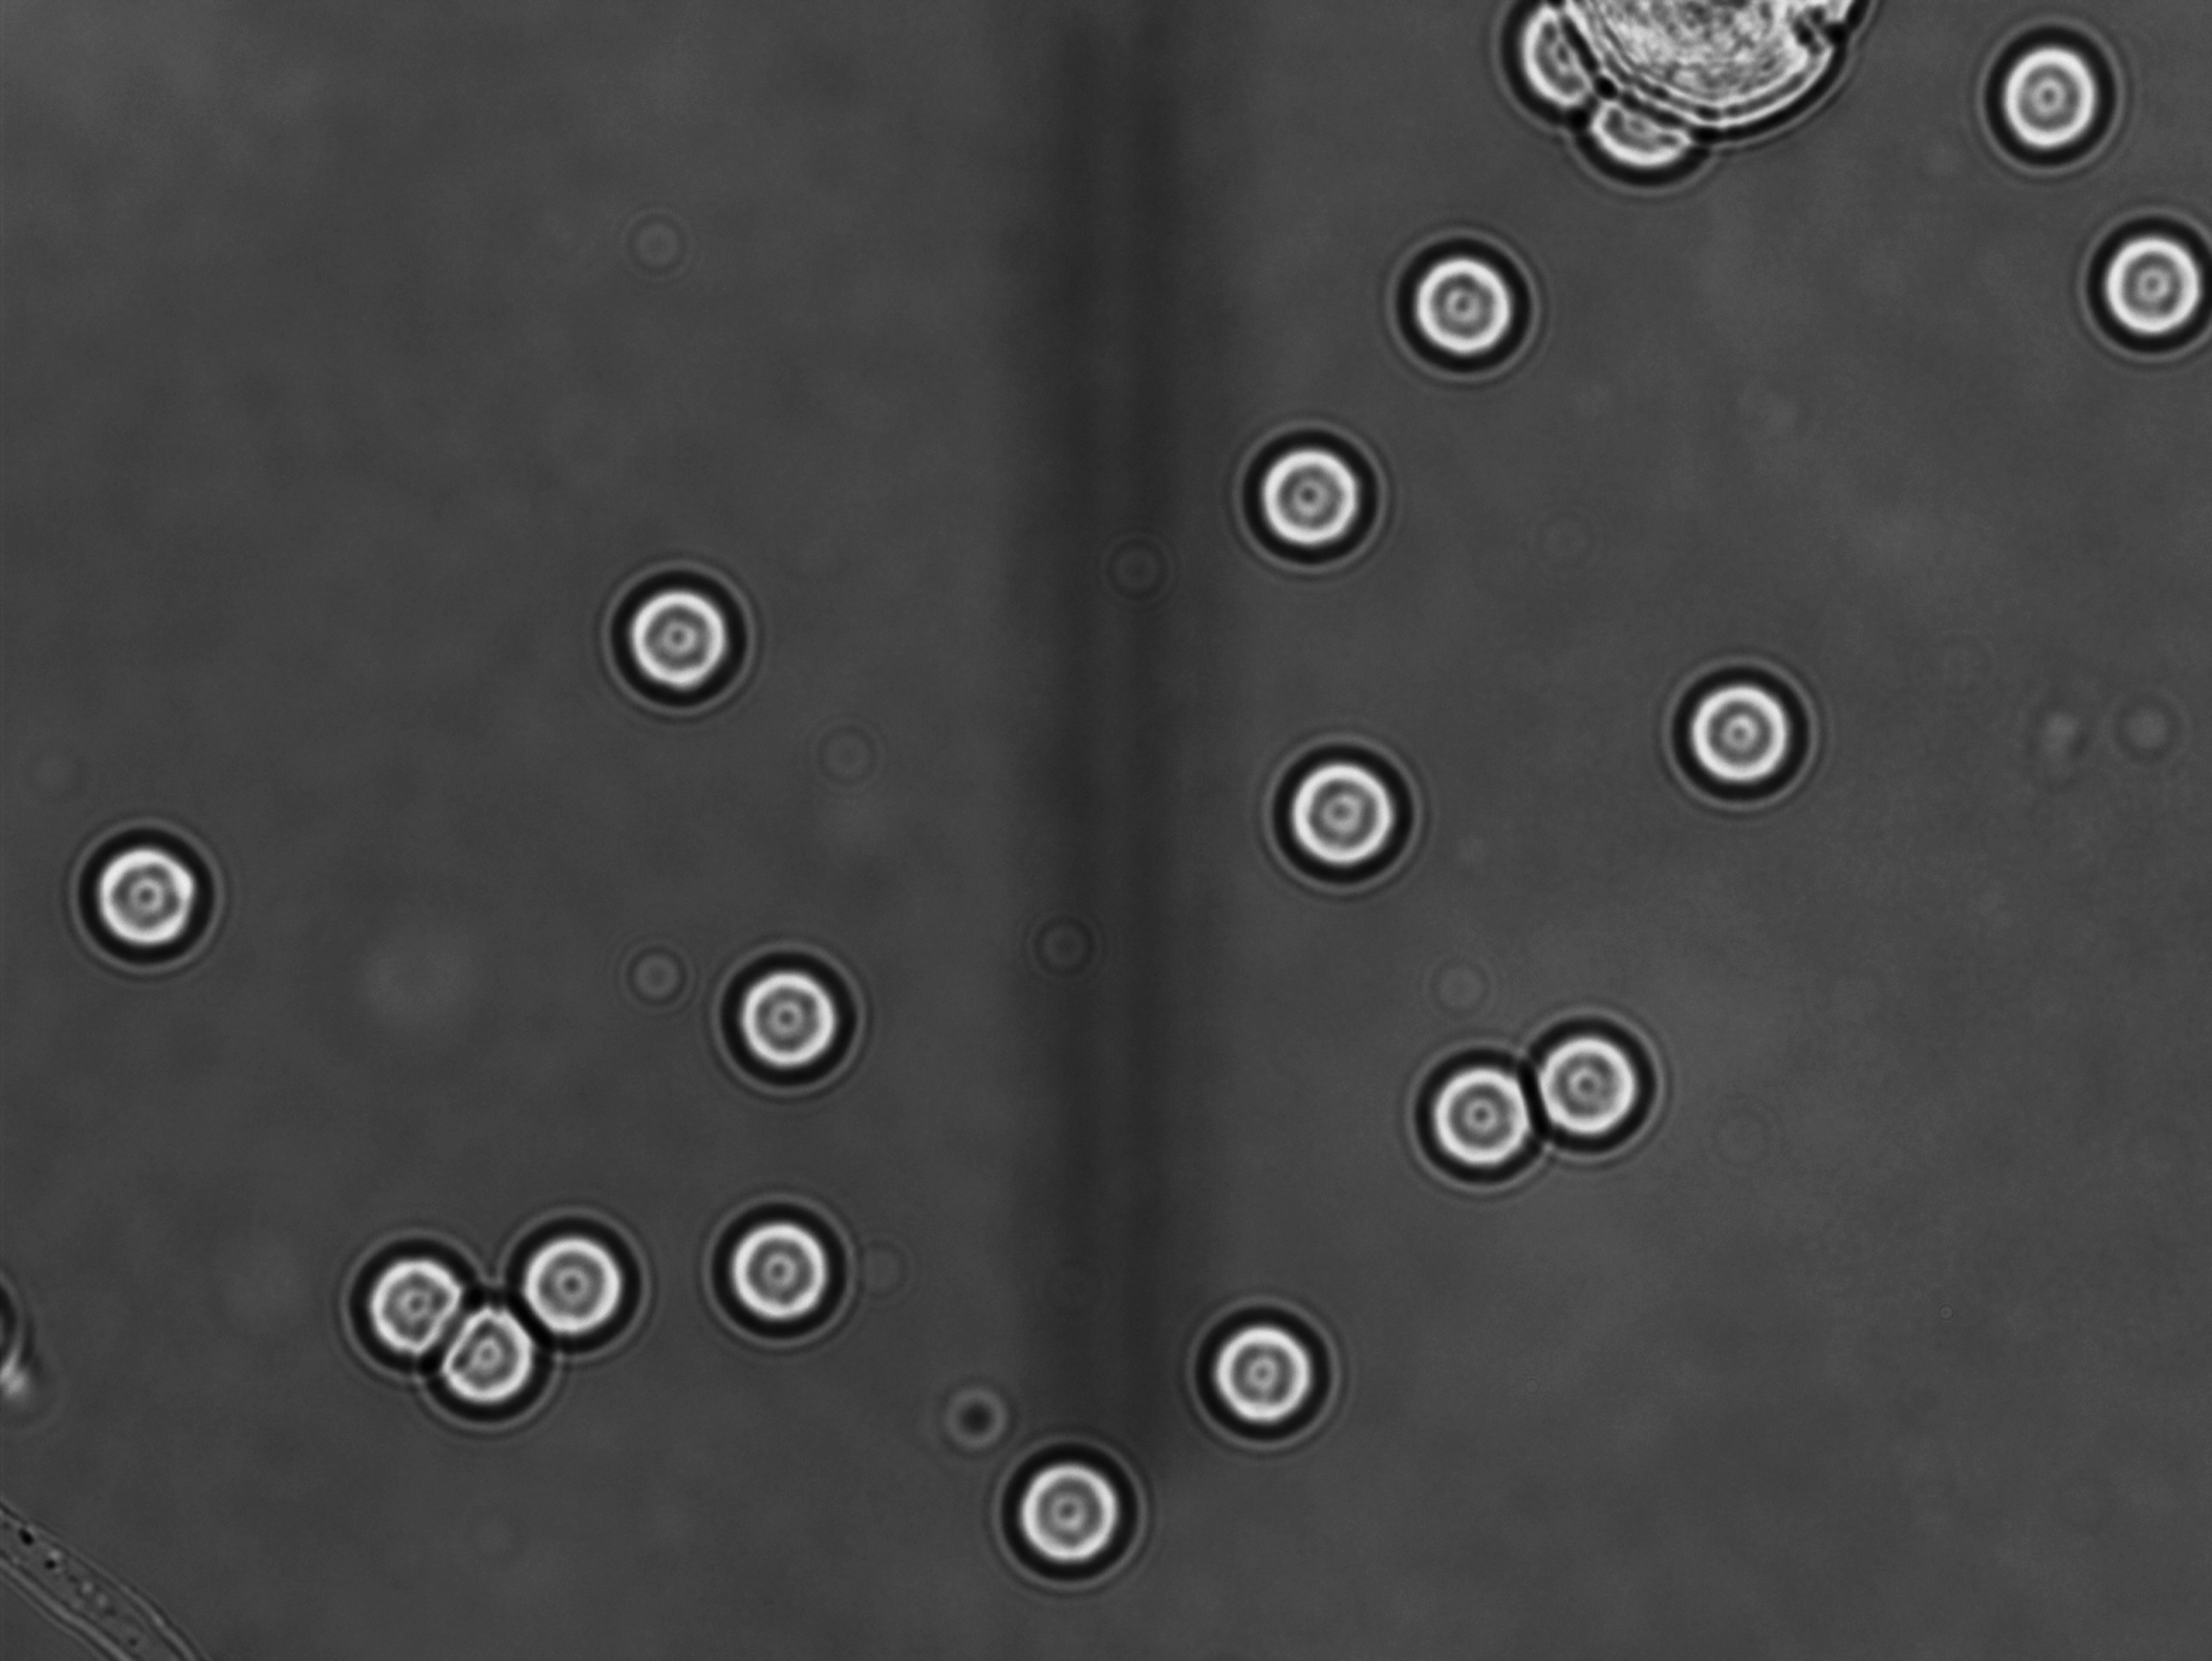depth:20: (1647, 632, 1844, 834), (1246, 726, 1439, 914), (1964, 19, 2146, 202), (1495, 972, 1666, 1164), (700, 923, 877, 1101), (1378, 211, 1556, 387), (1218, 410, 1404, 578), (58, 801, 239, 972), (977, 1424, 1158, 1591), (2060, 178, 2212, 372), (598, 553, 771, 721), (1397, 1026, 1561, 1195), (420, 1270, 584, 1439), (495, 1200, 658, 1363), (700, 1197, 867, 1354), (1176, 1293, 1340, 1452), (337, 1216, 488, 1382)
